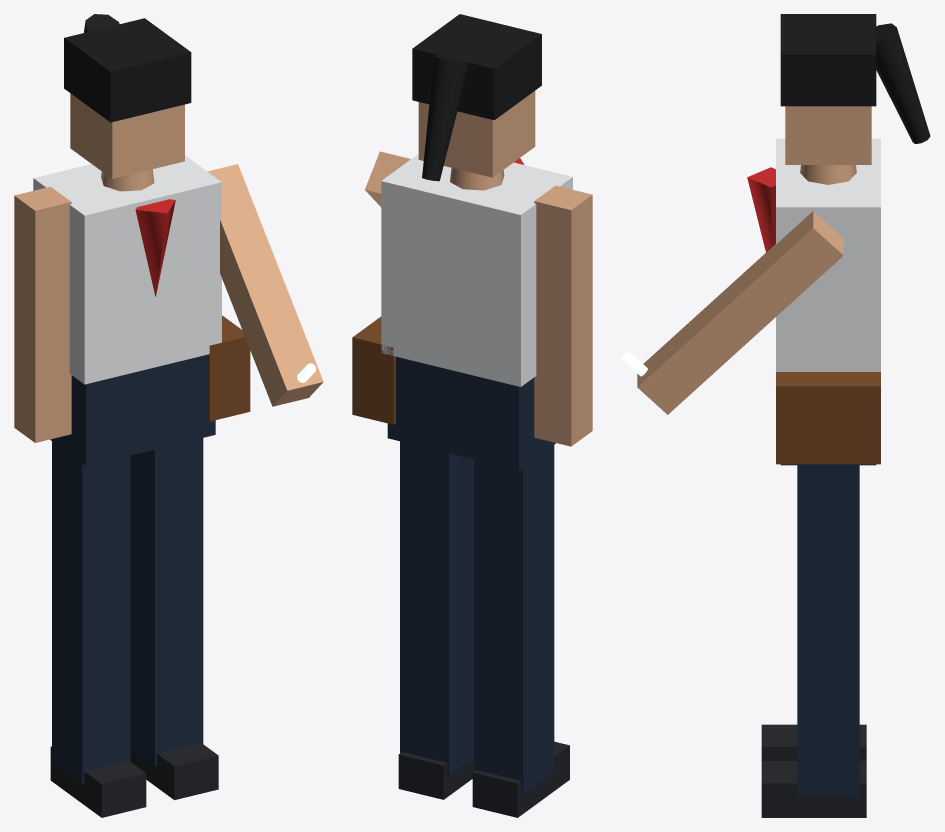
Rendered from CB_CHAR_Player_B.glb.
3 views of the same model, side by side, from view 1: azimuth 30°, elevation 25°; view 2: azimuth 150°, elevation 25°; view 3: azimuth 270°, elevation 25° (orthographic). The views are drawn at different scales.
Visible parts, largest first — view 1: CB_CHAR_Player_B; view 2: CB_CHAR_Player_B; view 3: CB_CHAR_Player_B.
Part boxes in pixels (x1,y1,x2,y2): CB_CHAR_Player_B: [14, 14, 323, 817]; CB_CHAR_Player_B: [352, 14, 592, 817]; CB_CHAR_Player_B: [621, 14, 930, 817].
Bounding box in the file's own units: 0.51 × 1.76 × 0.6461.
